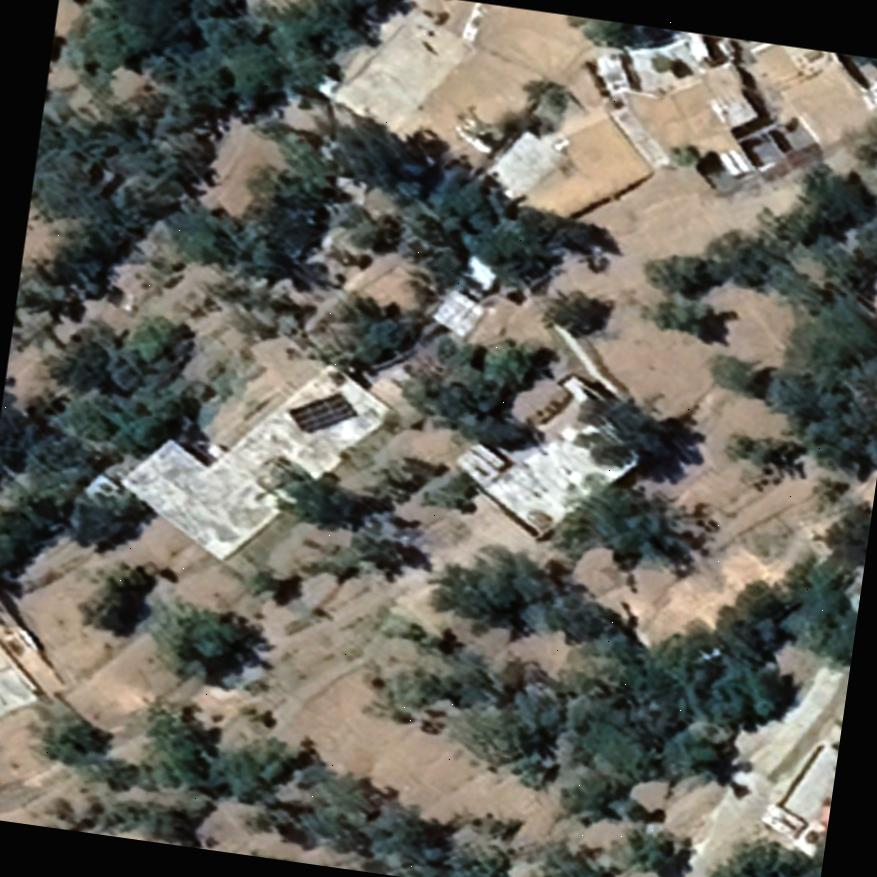Solarpanel: (283, 389, 359, 437)
